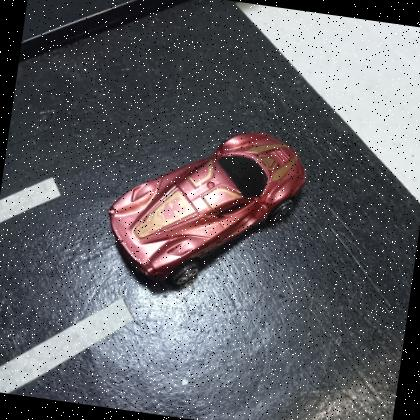Car: (109, 134, 305, 289)
